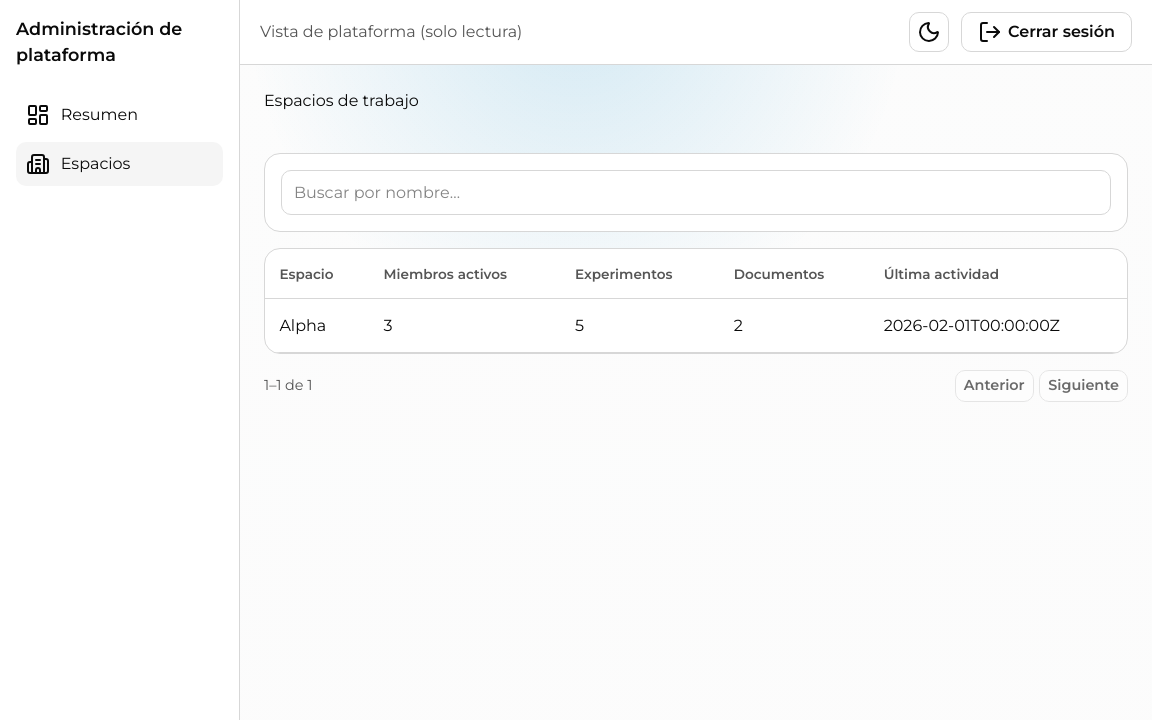
Test case: PlatformApp — authenticated navigation and content › lists tenant aggregates only (no members/documents/content) and opens a bounded detail view
Expected: the column heading "Miembros activos" is shown, [369,249,560,299]
Click the link "Alpha" at [303, 325], box [279,316,326,335]
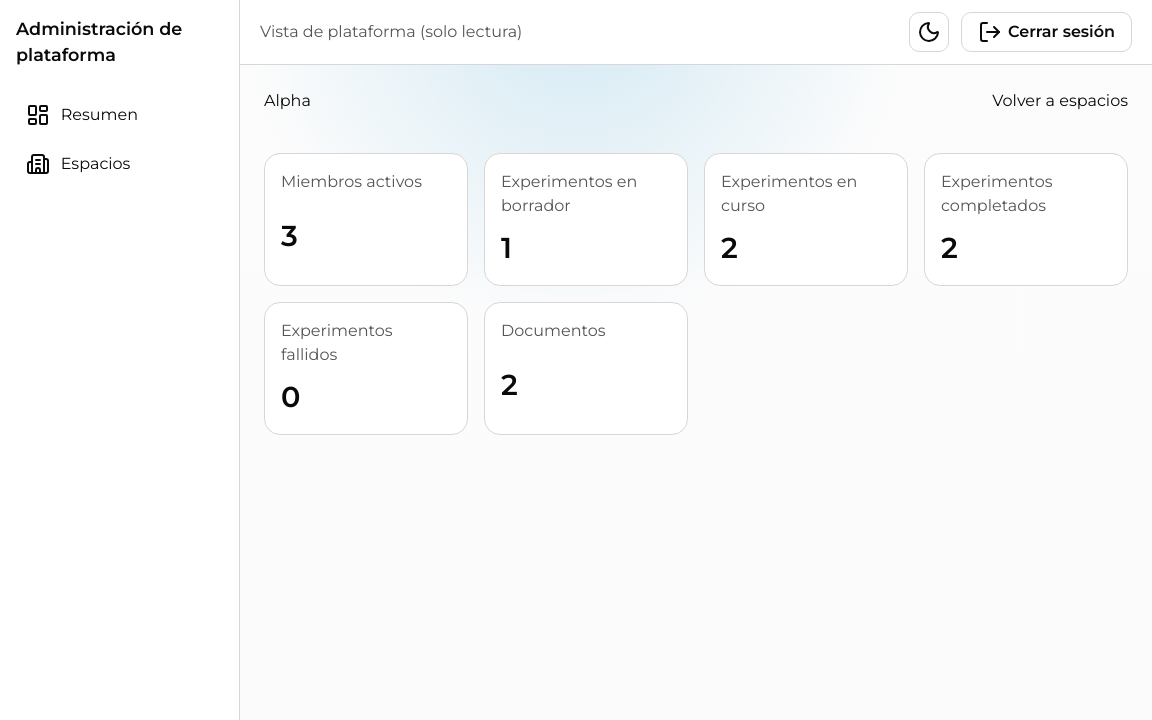
Expected: the text "Experimentos en curso" is shown, [721,172,857,215]
Expected: the heading "Alpha" is shown, [264,89,311,113]
